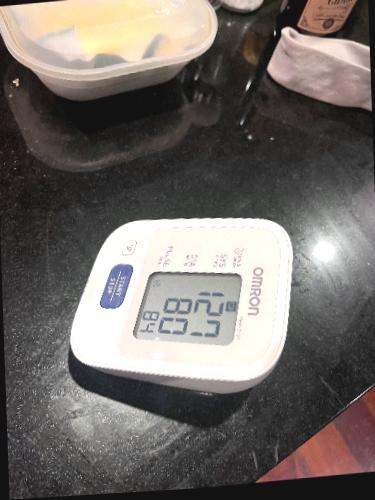bpm: (126, 260, 248, 352)
